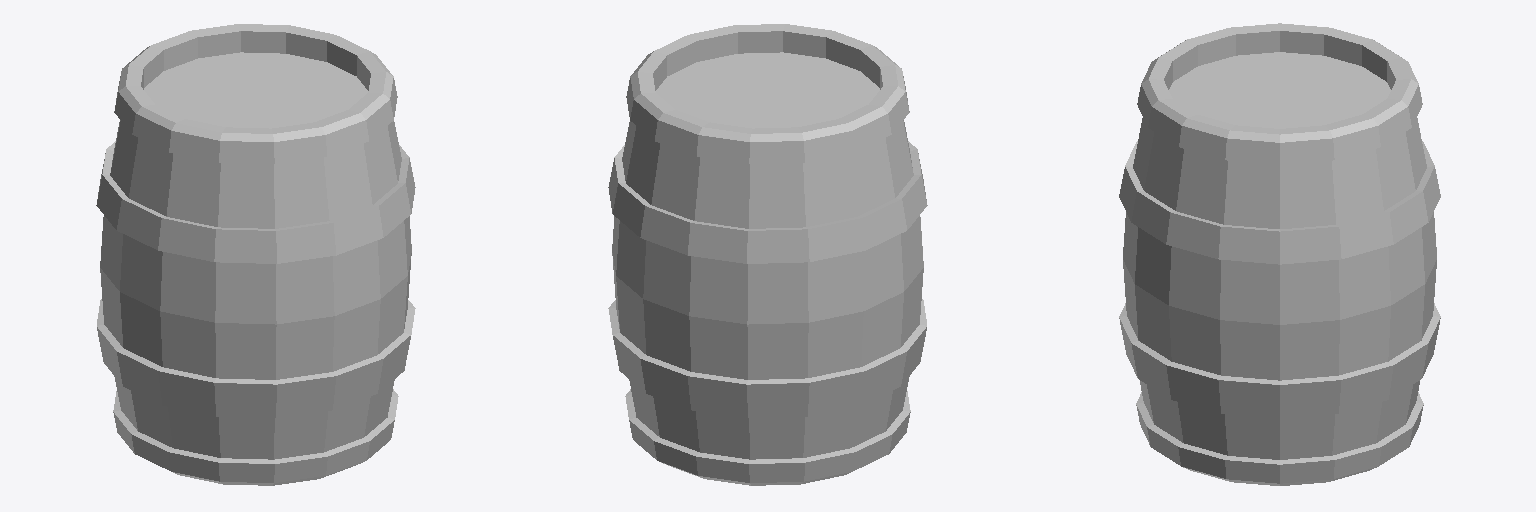
File: barrel_1.obj
The picture shows the model from 3 angles: view 1: azimuth 30°, elevation 25°; view 2: azimuth 150°, elevation 25°; view 3: azimuth 270°, elevation 25°; orthographic projection.
Visible parts, largest first — view 1: barrel_crates_0; view 2: barrel_crates_0; view 3: barrel_crates_0.
Boxes of the visible parts, x1=… form: barrel_crates_0: x1=96, y1=24, x2=415, y2=485; barrel_crates_0: x1=608, y1=24, x2=927, y2=485; barrel_crates_0: x1=1119, y1=23, x2=1440, y2=485.
Bounding box in the file's own units: 10.87 × 13.19 × 10.87.